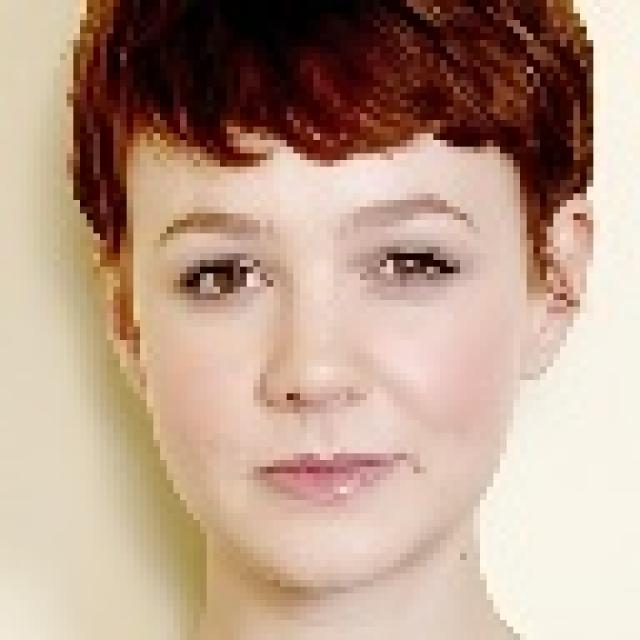sad: (77, 45, 568, 598)
